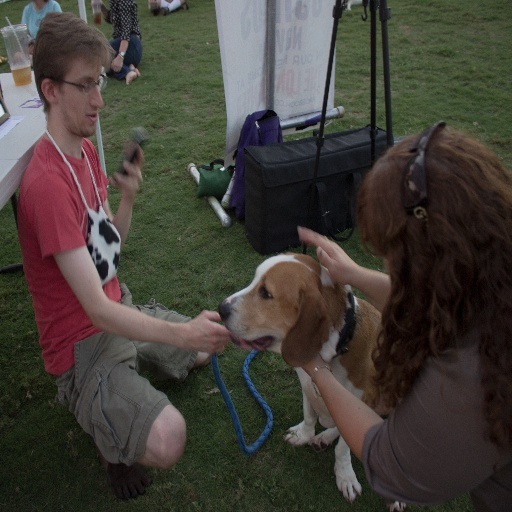hand: (312, 233, 364, 294), (187, 307, 232, 355), (108, 143, 141, 198), (301, 353, 325, 375), (109, 56, 123, 72), (91, 0, 104, 9), (13, 52, 23, 61), (27, 40, 34, 52)
